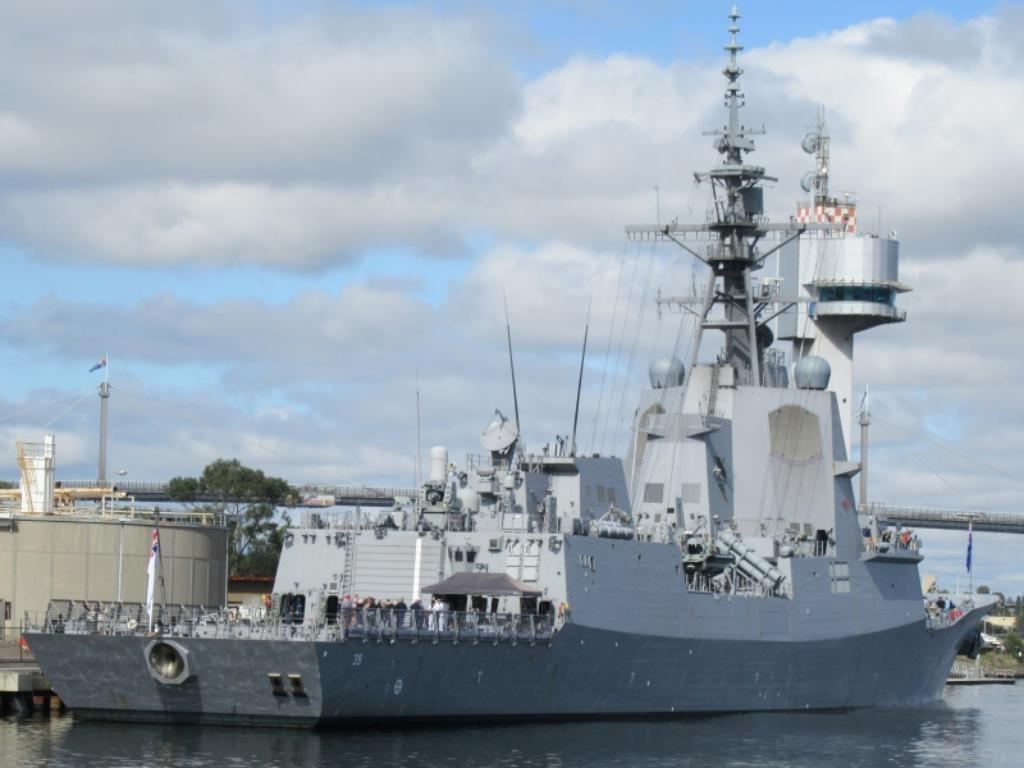Warship: (20, 0, 998, 728)
